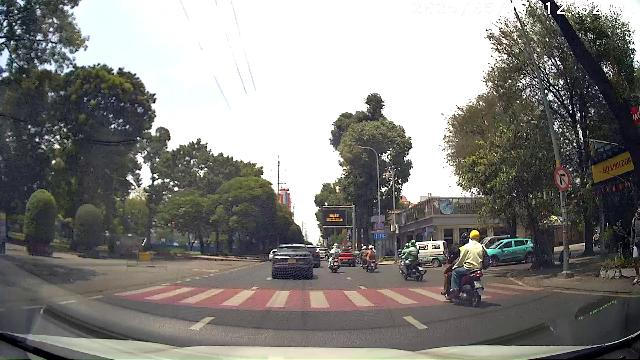123b-cam-re-phai: (554, 166, 570, 192)
